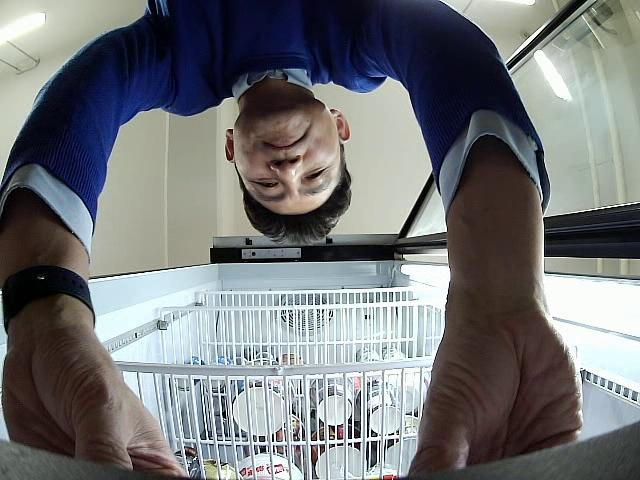00_hand: (406, 301, 583, 478), (1, 333, 194, 479)
